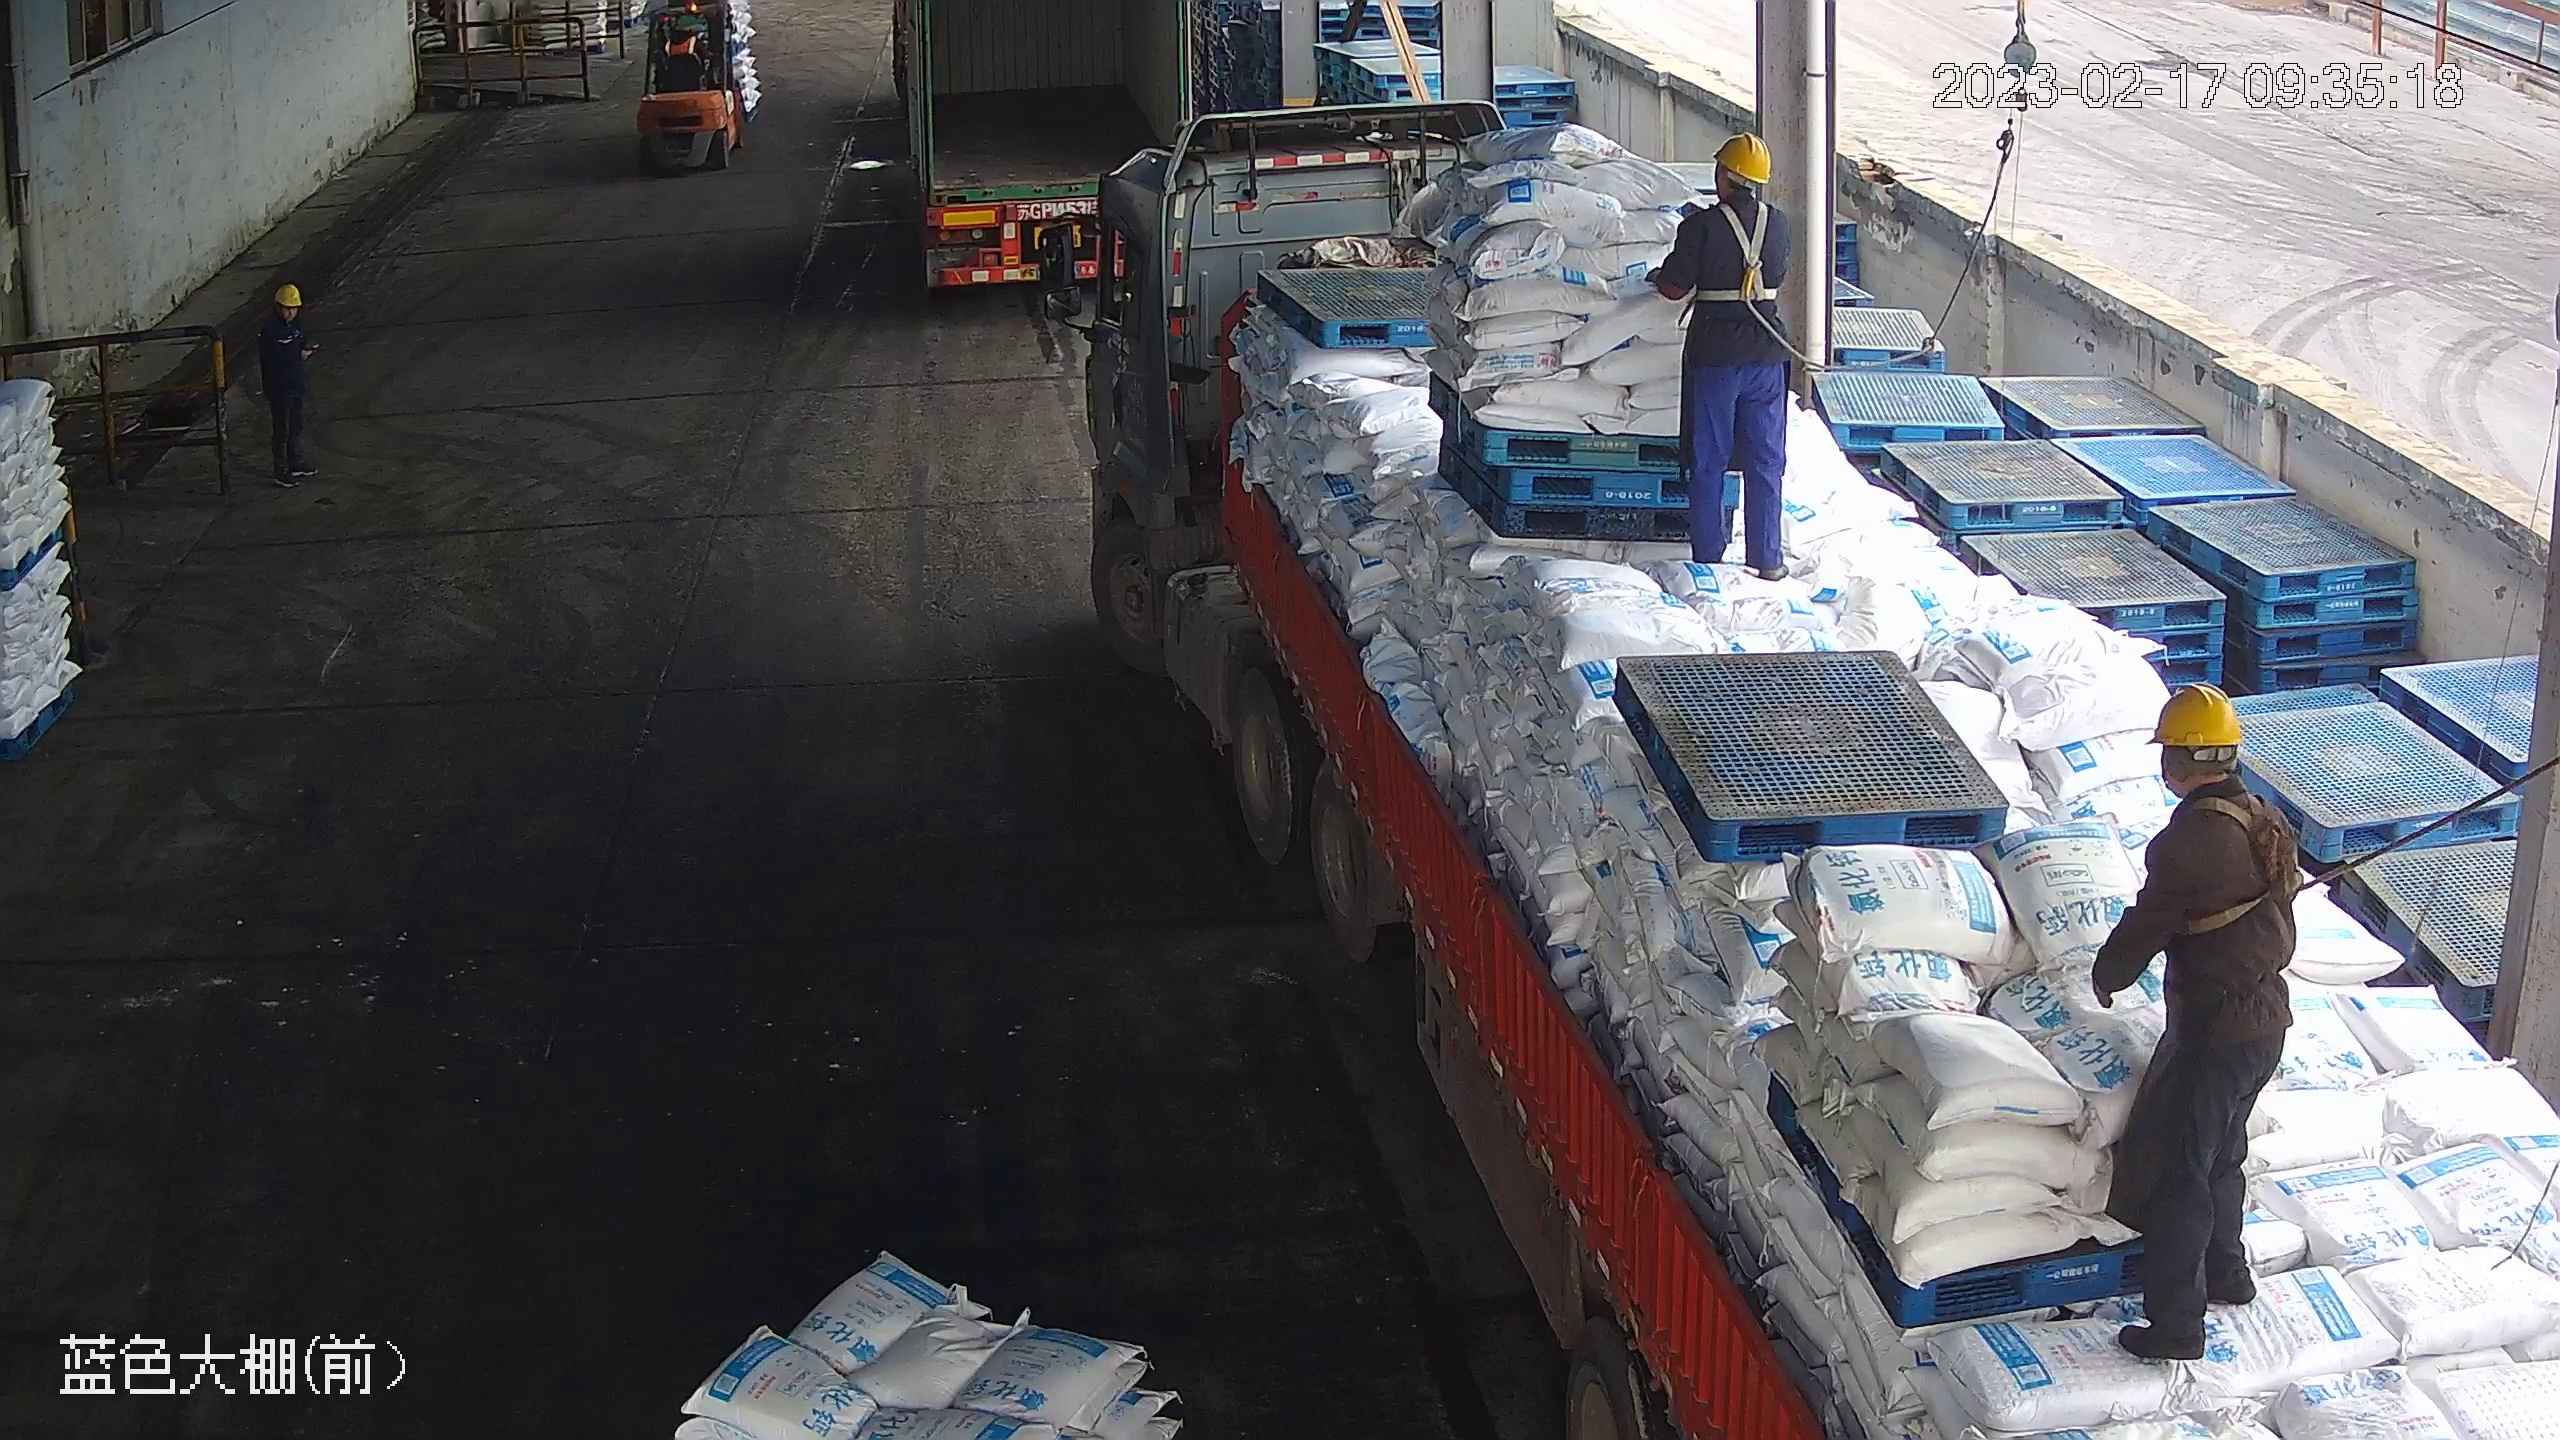belt: (2178, 786, 2317, 938), (1693, 198, 1784, 306)
head: (2123, 677, 2301, 869), (1675, 129, 1793, 247), (261, 283, 313, 346)
helmet: (2144, 679, 2248, 753), (1715, 130, 1773, 184), (272, 282, 305, 308)
people: (2089, 678, 2305, 1365), (1647, 129, 1807, 579), (255, 280, 324, 489)
truck: (1039, 111, 2551, 1437), (884, 1, 1193, 294)
